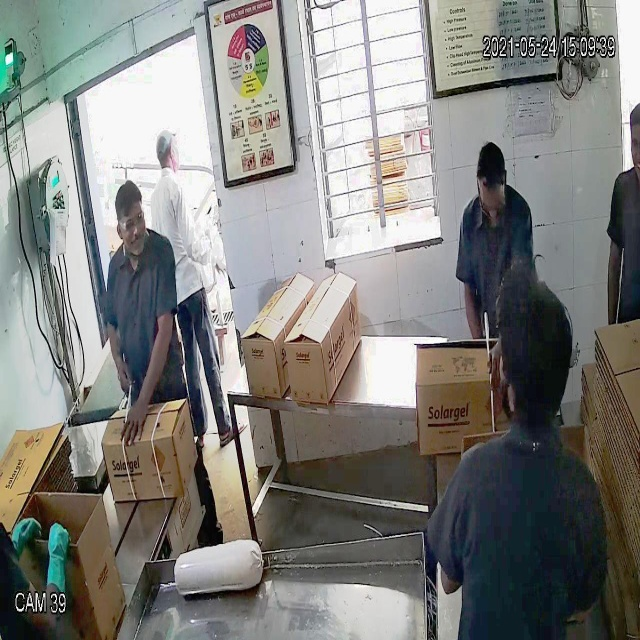Gafas: (111, 209, 148, 235)
